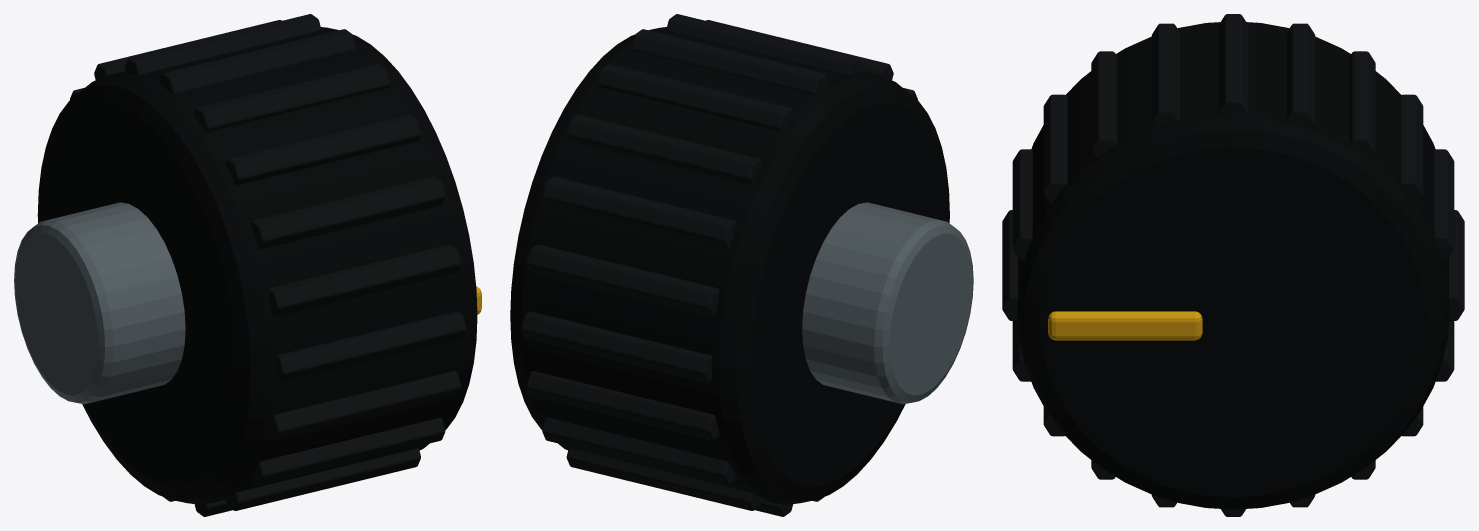
File: SM_WinchRotaryKnob.obj
3 views of the same model, side by side, from view 1: azimuth 30°, elevation 25°; view 2: azimuth 150°, elevation 25°; view 3: azimuth 270°, elevation 25° (orthographic).
Visible parts, largest first — view 1: SM_WinchRotaryKnob; view 2: SM_WinchRotaryKnob; view 3: SM_WinchRotaryKnob.
Boxes of the visible parts, <box> form: SM_WinchRotaryKnob: <box>14,14,481,516</box>; SM_WinchRotaryKnob: <box>510,14,973,516</box>; SM_WinchRotaryKnob: <box>1002,14,1464,516</box>.
Bounding box in the file's own units: 4.9 × 5.95 × 5.99.
